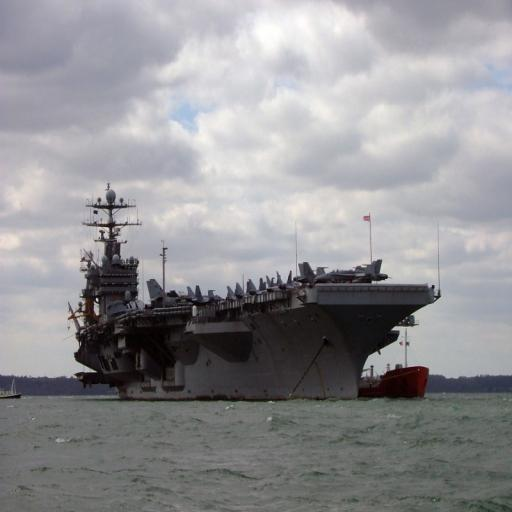Portanaves: (68, 178, 442, 405)
